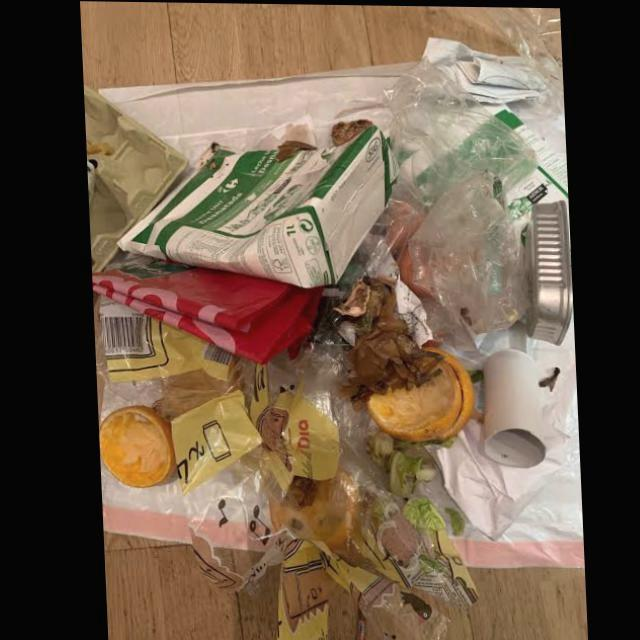aluminum: (522, 199, 570, 346)
